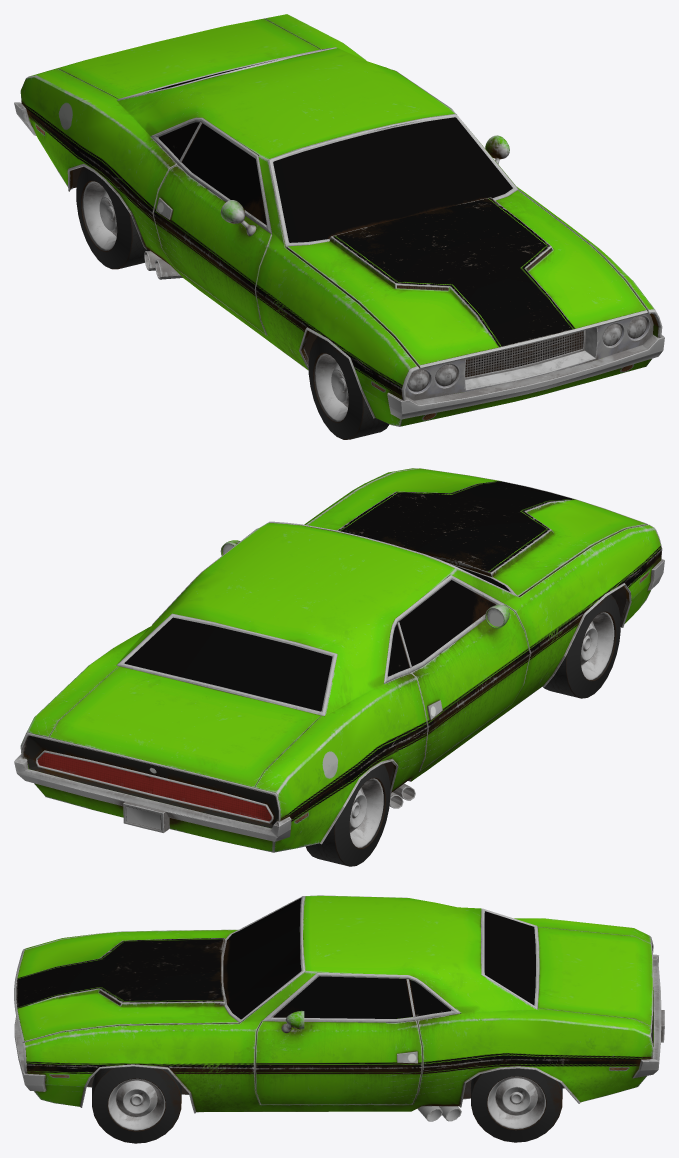
The model's file is car5 (2).fbx.
3 renders of one model, top to bottom at view 1: azimuth 30°, elevation 25°; view 2: azimuth 150°, elevation 25°; view 3: azimuth 270°, elevation 25°, orthographic. The views are drawn at different scales.
Visible parts, largest first — view 1: car body.004, tyre.018, tyre.017; view 2: car body.004, tyre.017, tyre.018; view 3: car body.004, tyre.019, tyre.016.
Boxes of the visible parts, x1=… form: car body.004: x1=14, y1=14, x2=664, y2=426; tyre.018: x1=308, y1=336, x2=389, y2=439; tyre.017: x1=76, y1=166, x2=149, y2=269; car body.004: x1=14, y1=468, x2=664, y2=852; tyre.017: x1=305, y1=764, x2=390, y2=866; tyre.018: x1=543, y1=594, x2=620, y2=698; car body.004: x1=14, y1=895, x2=664, y2=1121; tyre.019: x1=92, y1=1066, x2=181, y2=1143; tyre.016: x1=471, y1=1068, x2=562, y2=1142.
Bounding box in the file's own units: 145 × 97.88 × 351.
3 materials, 3 textured.
